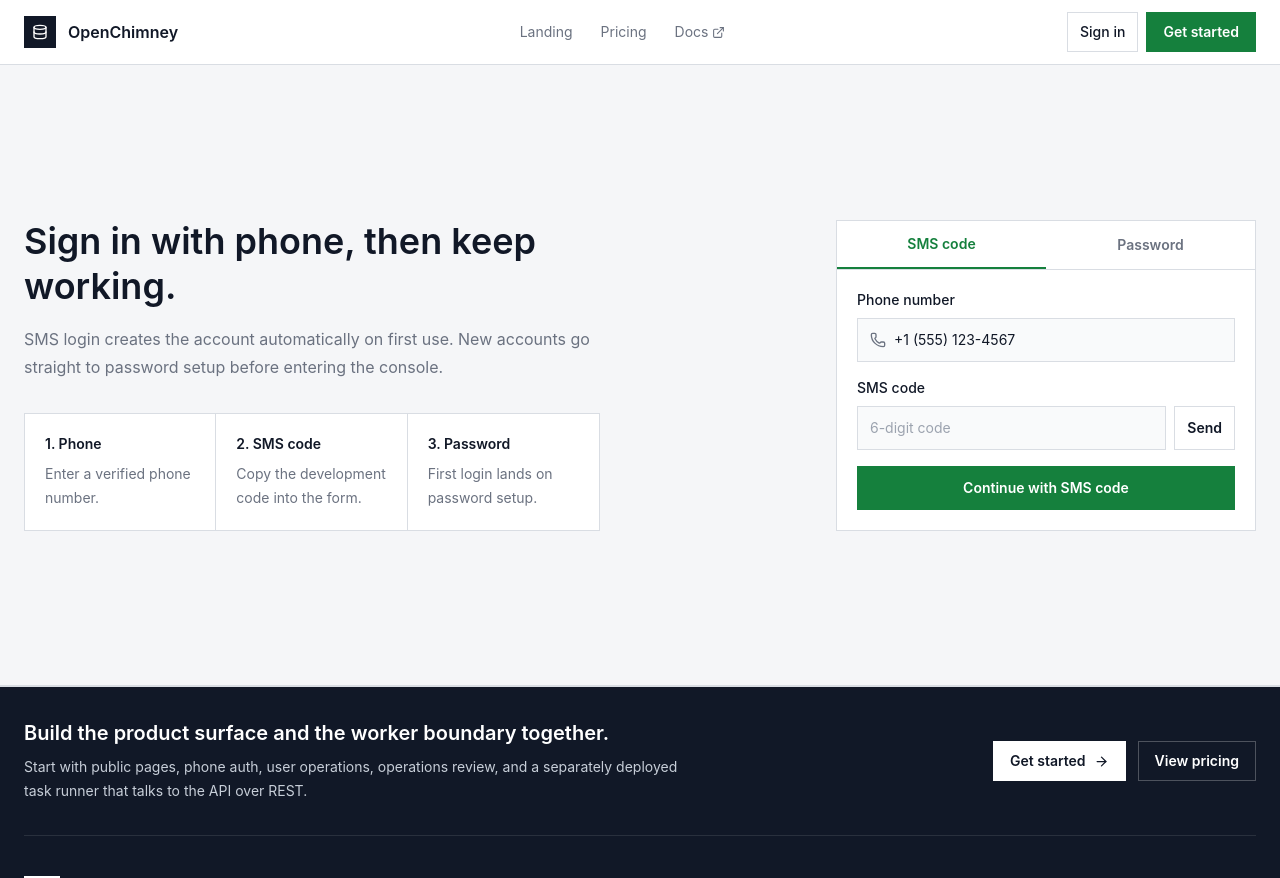
it: LoginPage › keeps SMS submit disabled until a code is requested for the current phone
Check: the button "Continue with SMS code" is disabled, box [857,466,1235,510]
Type "123456" into the field labelled "SMS code" at (1012, 428), box [857,406,1166,450]
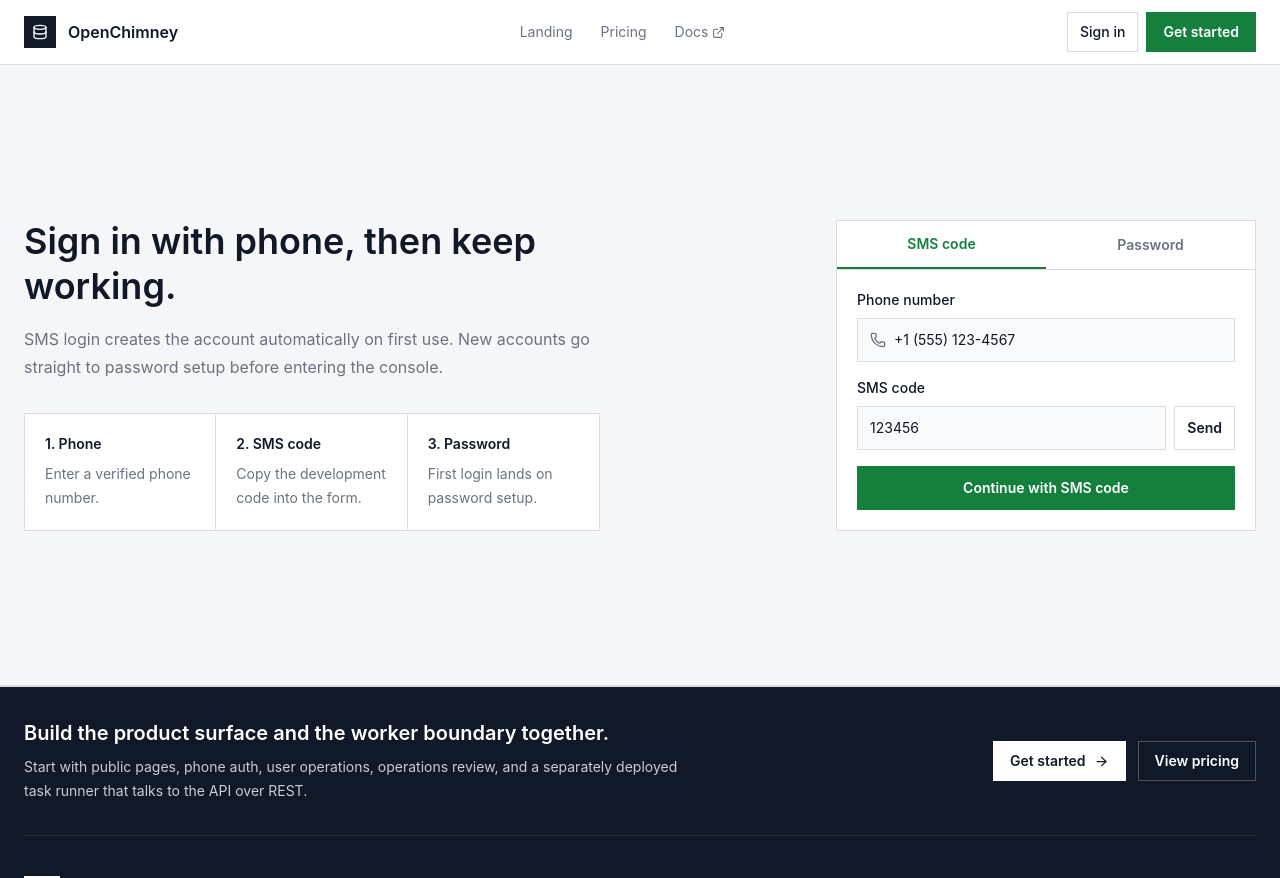
Check: the button "Continue with SMS code" is disabled, box [857,466,1235,510]
Click the button "Send" at (1205, 428), box [1174,406,1235,450]
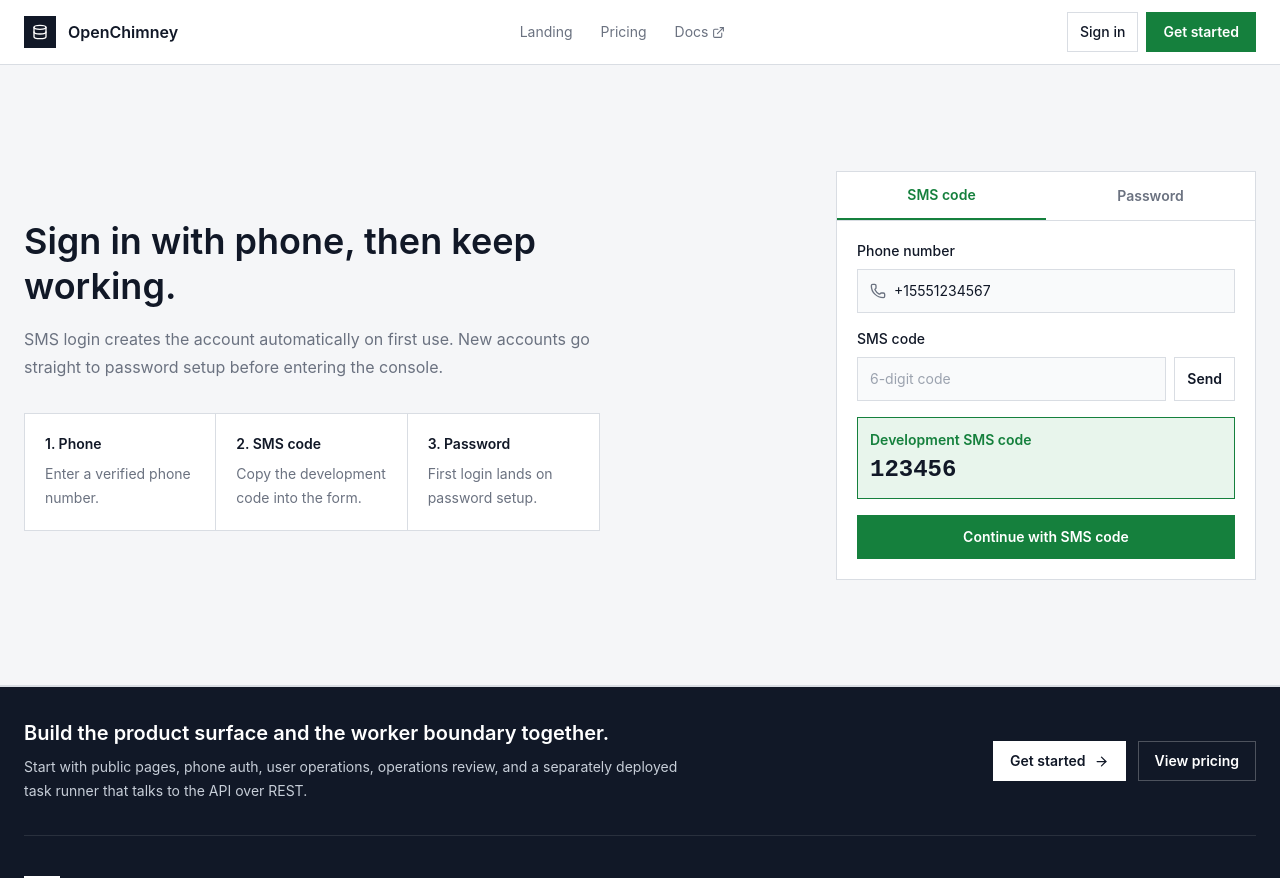
Check: the text "Development SMS code" is shown, box [870,430,1032,448]
Click the button "123456" at (913, 470), box [870,454,956,486]
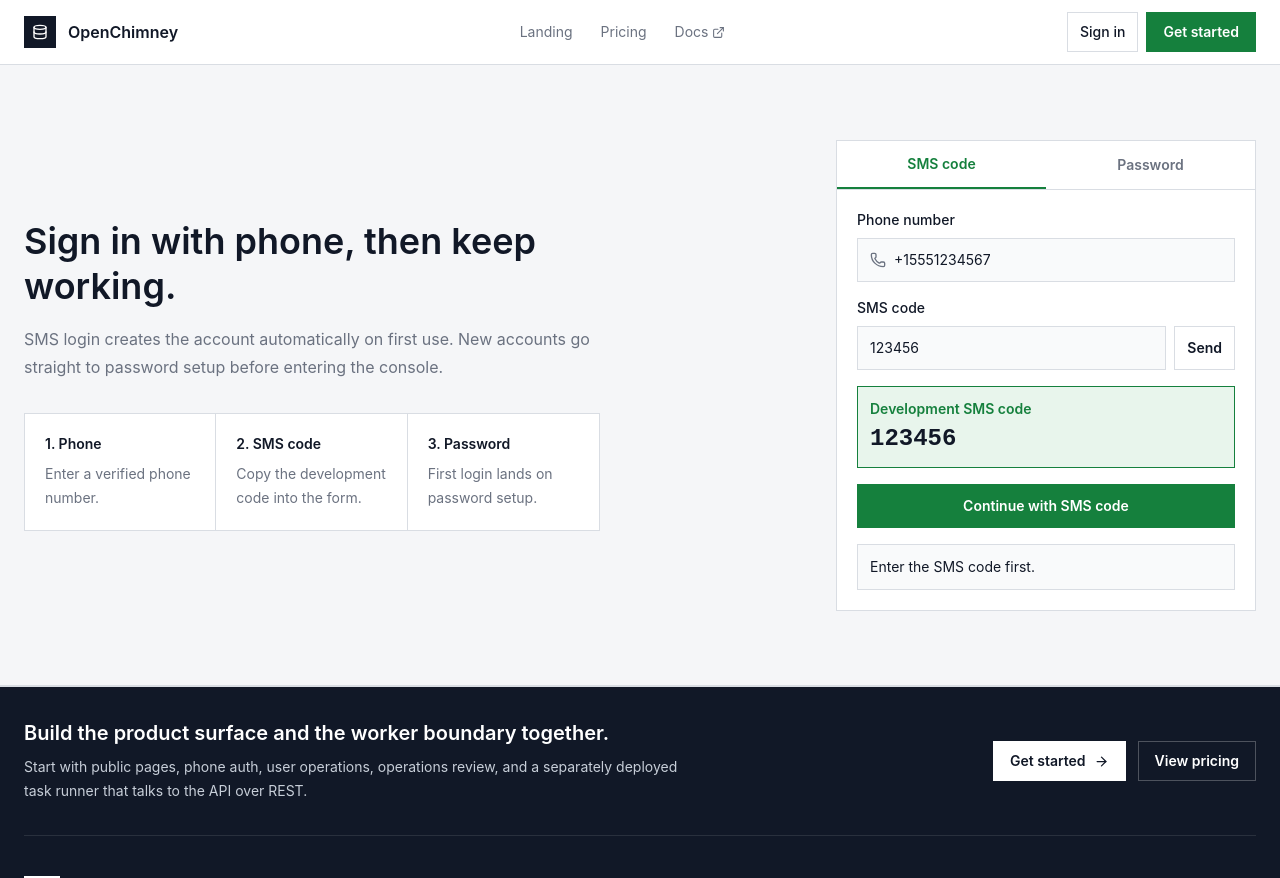
Check: the button "Continue with SMS code" is enabled, box [857,484,1235,528]
